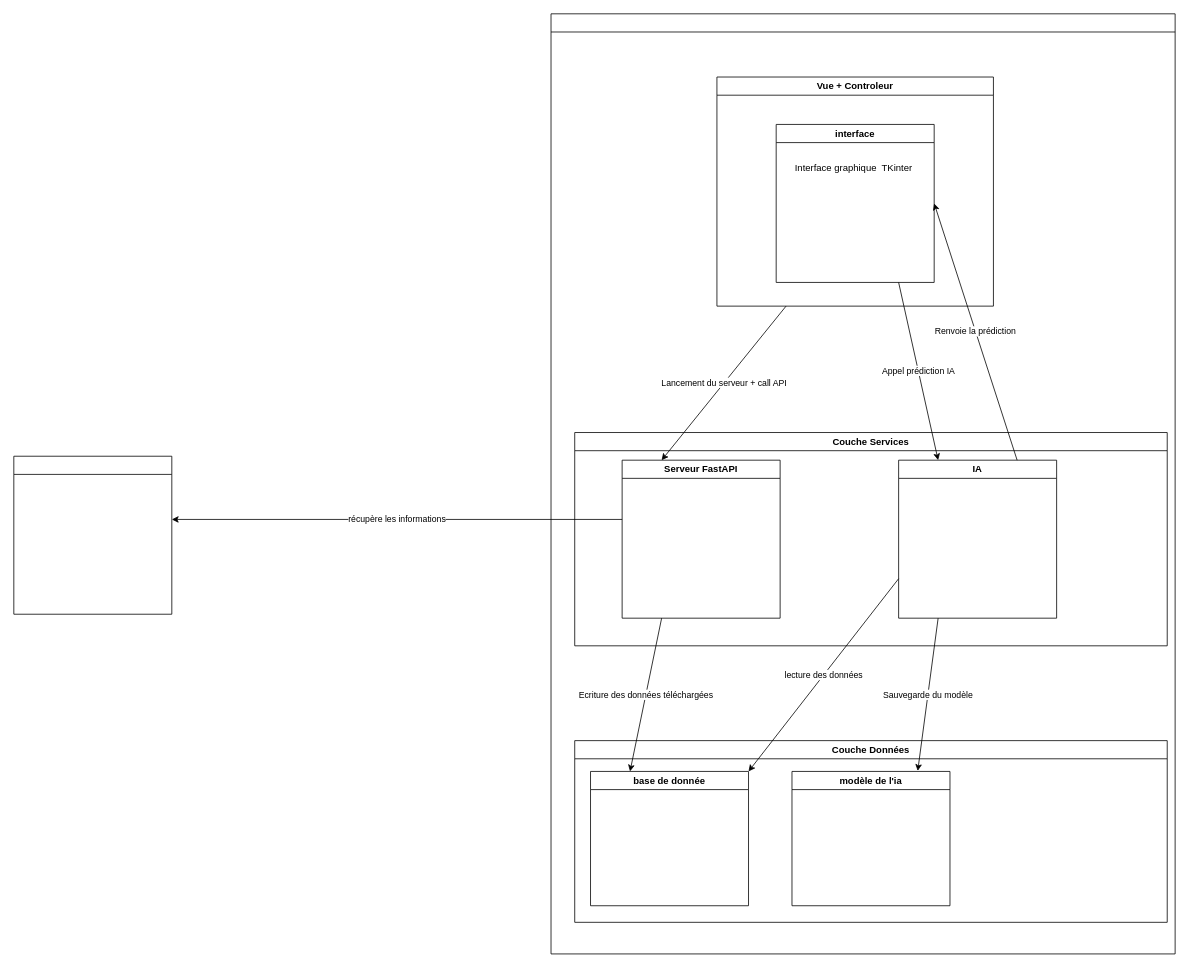
Some shapes in this 1189 by 968 pixel diagram are drawn without their labels. Each missing label, with the centre of its shape:
Application: point (862, 483)
Open Data météo: point (92, 534)
